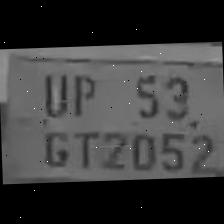0: (126, 124, 158, 172)
2: (182, 122, 216, 172), (95, 120, 127, 170)
3: (159, 64, 192, 118)
5: (128, 62, 162, 119), (156, 121, 186, 173)
G: (36, 120, 72, 168)
P: (65, 64, 99, 116)
T: (68, 123, 98, 169)
U: (37, 66, 70, 118)
